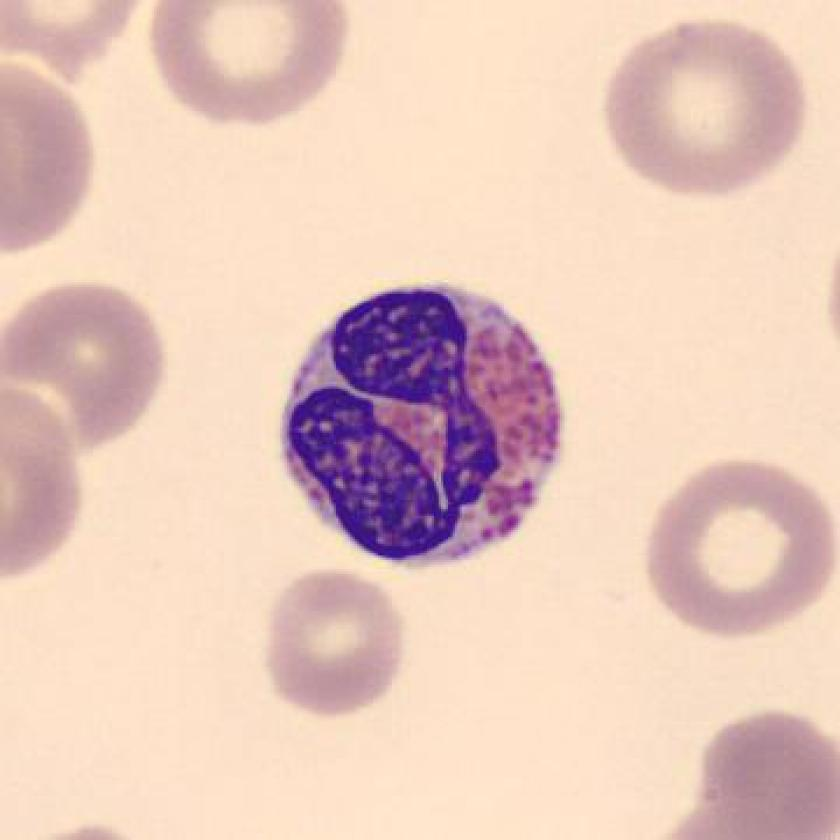eosinophil: (260, 270, 582, 584)
